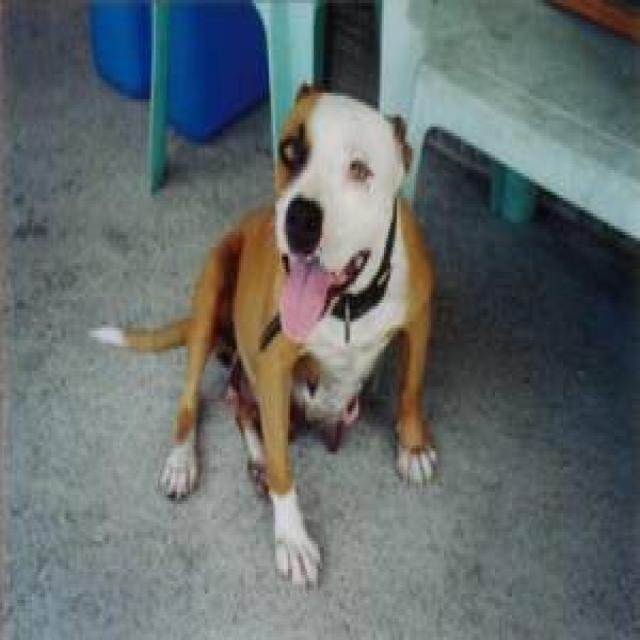dog-american_pit_bull_terrier: (87, 80, 435, 587)
